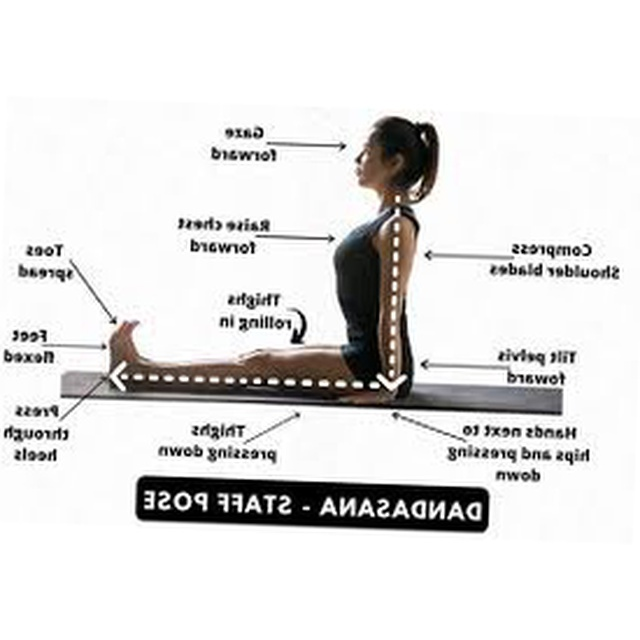Staff_Pose: (109, 116, 441, 405)
